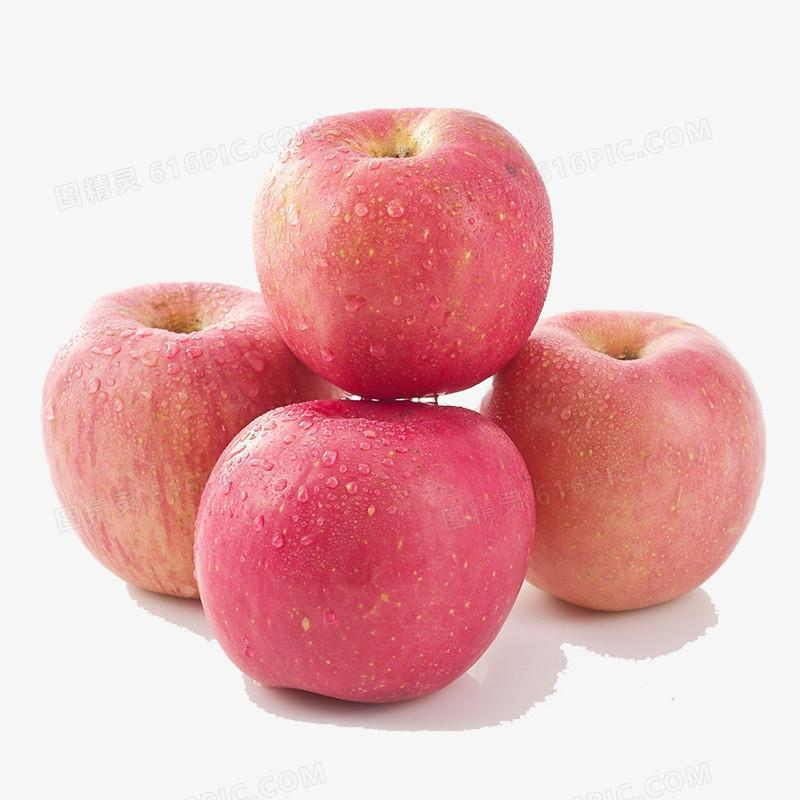apple: (194, 399, 539, 707), (43, 281, 351, 603), (254, 112, 554, 405), (479, 315, 758, 609)
